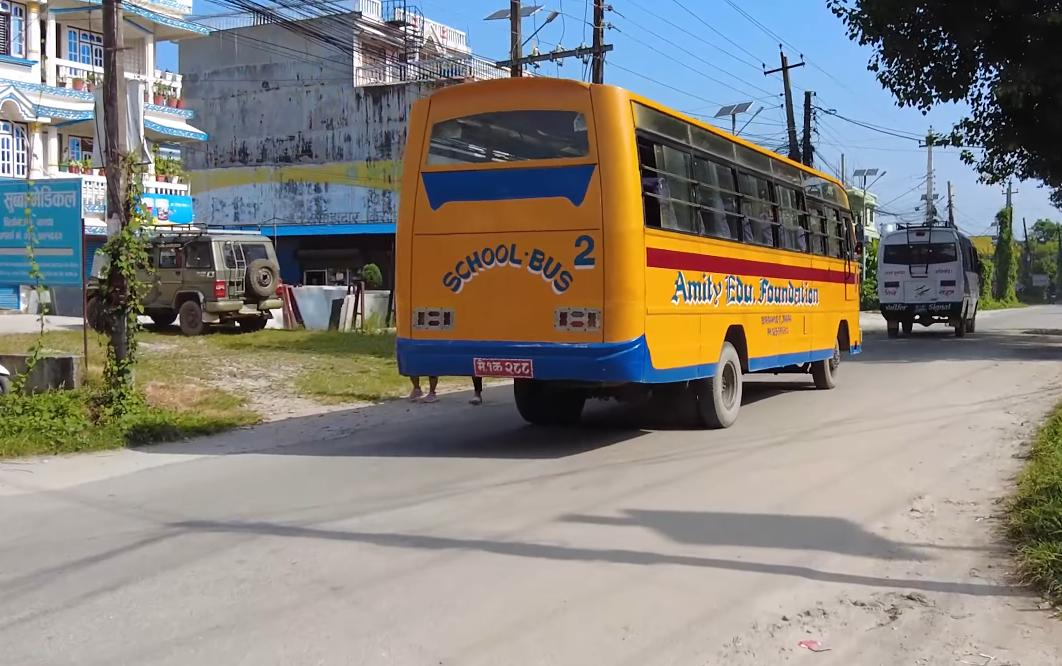bus: (871, 208, 990, 341)
